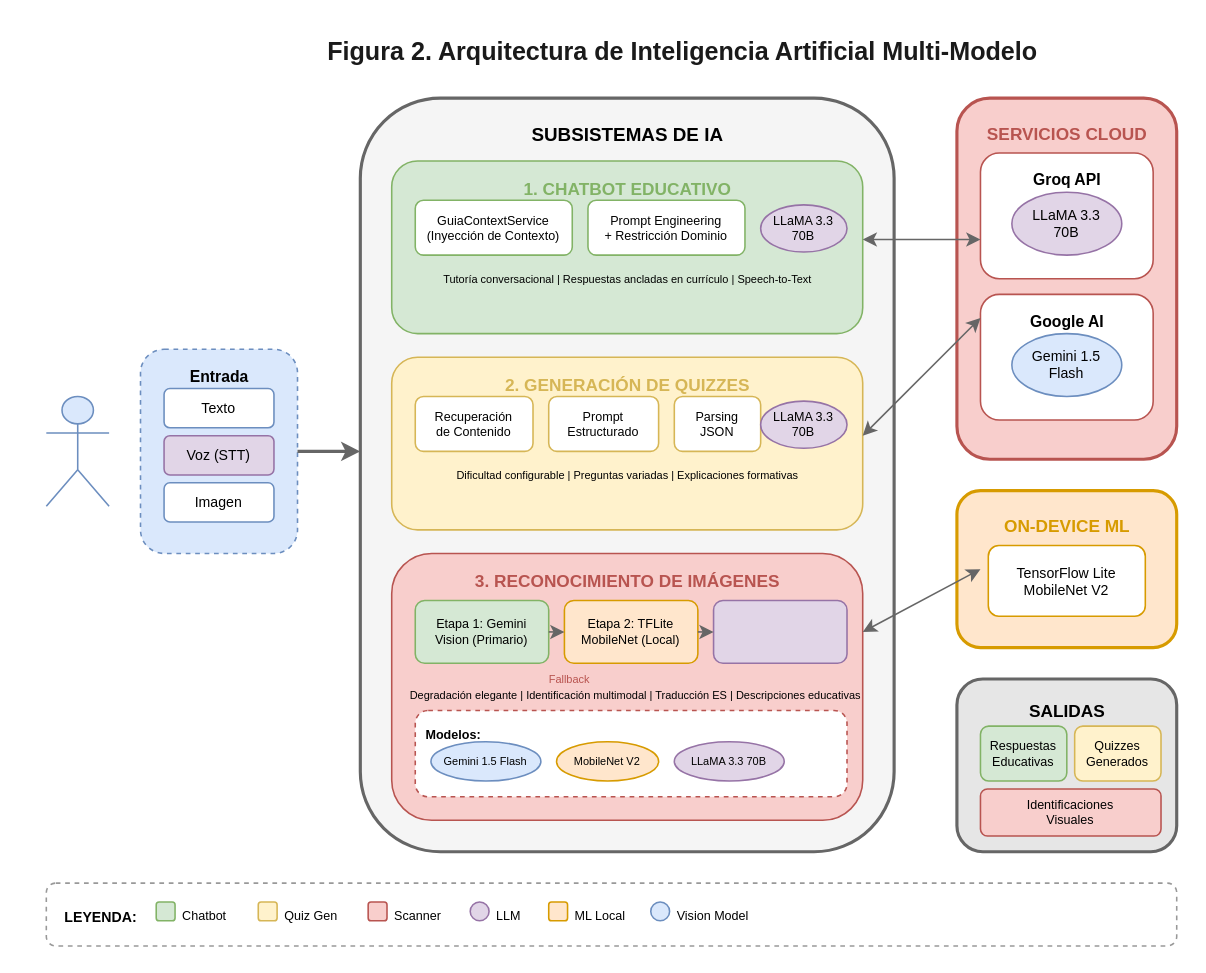
The diagram is 1206 pixels wide and 973 high, and some of its shapes have lost their labels. Here are the shapes that lost their labels. From the top down, the box of each, then its label:
(45, 395, 109, 506): Usuario (Estudiante)
(712, 599, 847, 663): Etapa 3: LLaMA Descripciones
